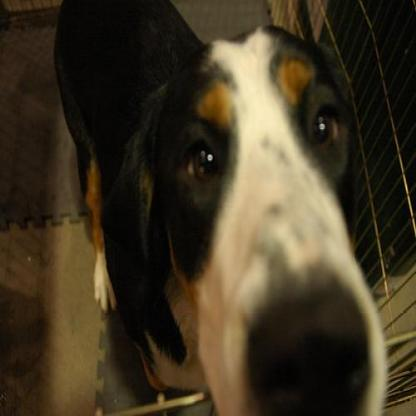Greater_Swiss_Mountain_dog: (49, 0, 391, 413)
